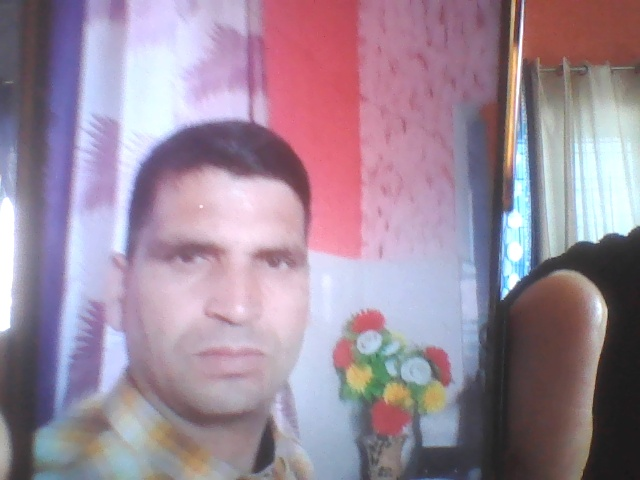fake: (92, 82, 340, 433)
